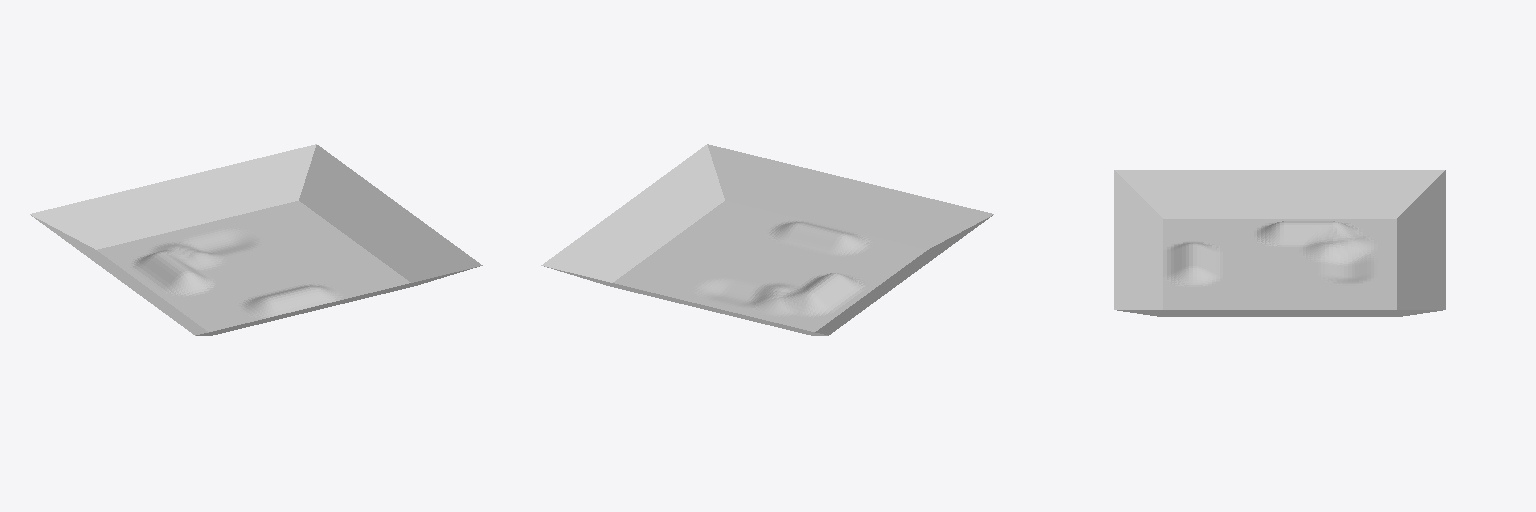
File: terrain2.obj
3 views of the same model, side by side, from view 1: azimuth 30°, elevation 25°; view 2: azimuth 150°, elevation 25°; view 3: azimuth 270°, elevation 25° (orthographic).
Parts seen in each view (by area): view 1: Plane_Plane_None; view 2: Plane_Plane_None; view 3: Plane_Plane_None.
Part boxes in pixels (left/top/right/bottom): Plane_Plane_None: left=30, top=144, right=482, bottom=335; Plane_Plane_None: left=541, top=144, right=993, bottom=335; Plane_Plane_None: left=1114, top=170, right=1445, bottom=316.
Bounding box in the file's own units: 82.56 × 8.83 × 82.56.